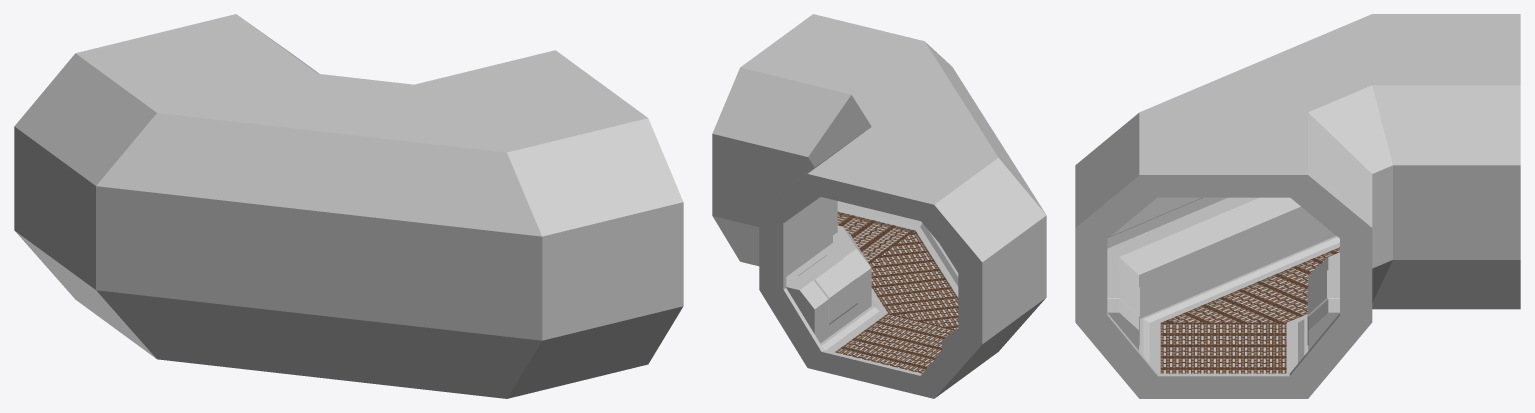
The model's file is Corridor_Angle.fbx.
3 renders of one model, left to right at view 1: azimuth 30°, elevation 25°; view 2: azimuth 150°, elevation 25°; view 3: azimuth 270°, elevation 25°, orthographic. The views are drawn at different scales.
Visible parts, largest first — view 1: Corridor_Angle; view 2: Corridor_Angle; view 3: Corridor_Angle.
Boxes of the visible parts, left/top/right/bottom form: Corridor_Angle: left=14, top=14, right=683, bottom=398; Corridor_Angle: left=712, top=14, right=1046, bottom=398; Corridor_Angle: left=1075, top=14, right=1520, bottom=398.
Size of what is drawn, in the model's own units: 600 by 333 by 600.
